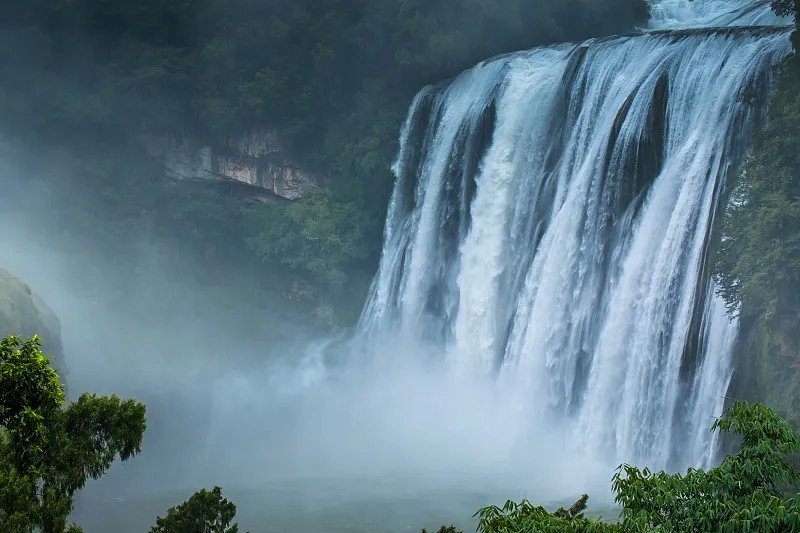Huangguoshu: (357, 1, 794, 473)
